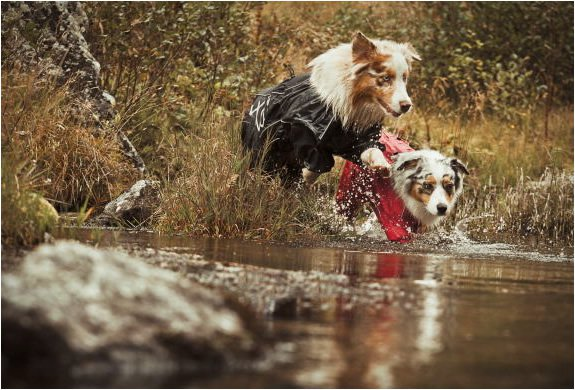dog: (241, 27, 421, 164), (333, 125, 478, 239)
